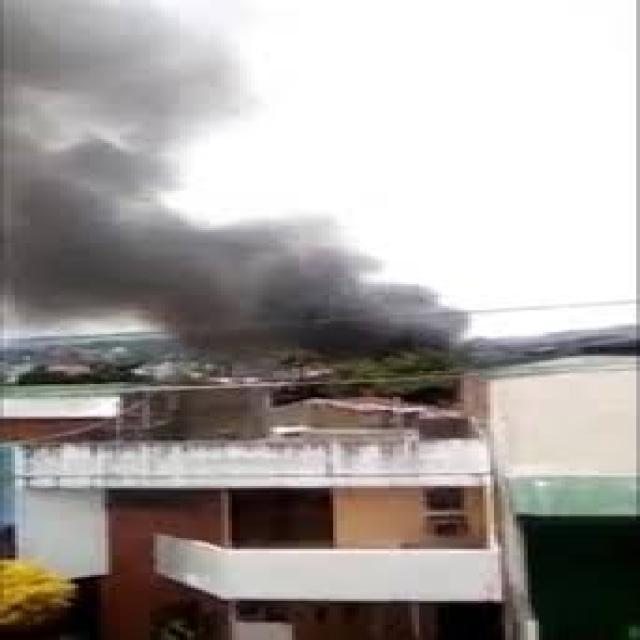Smoke: (0, 3, 224, 349), (173, 222, 511, 378)
